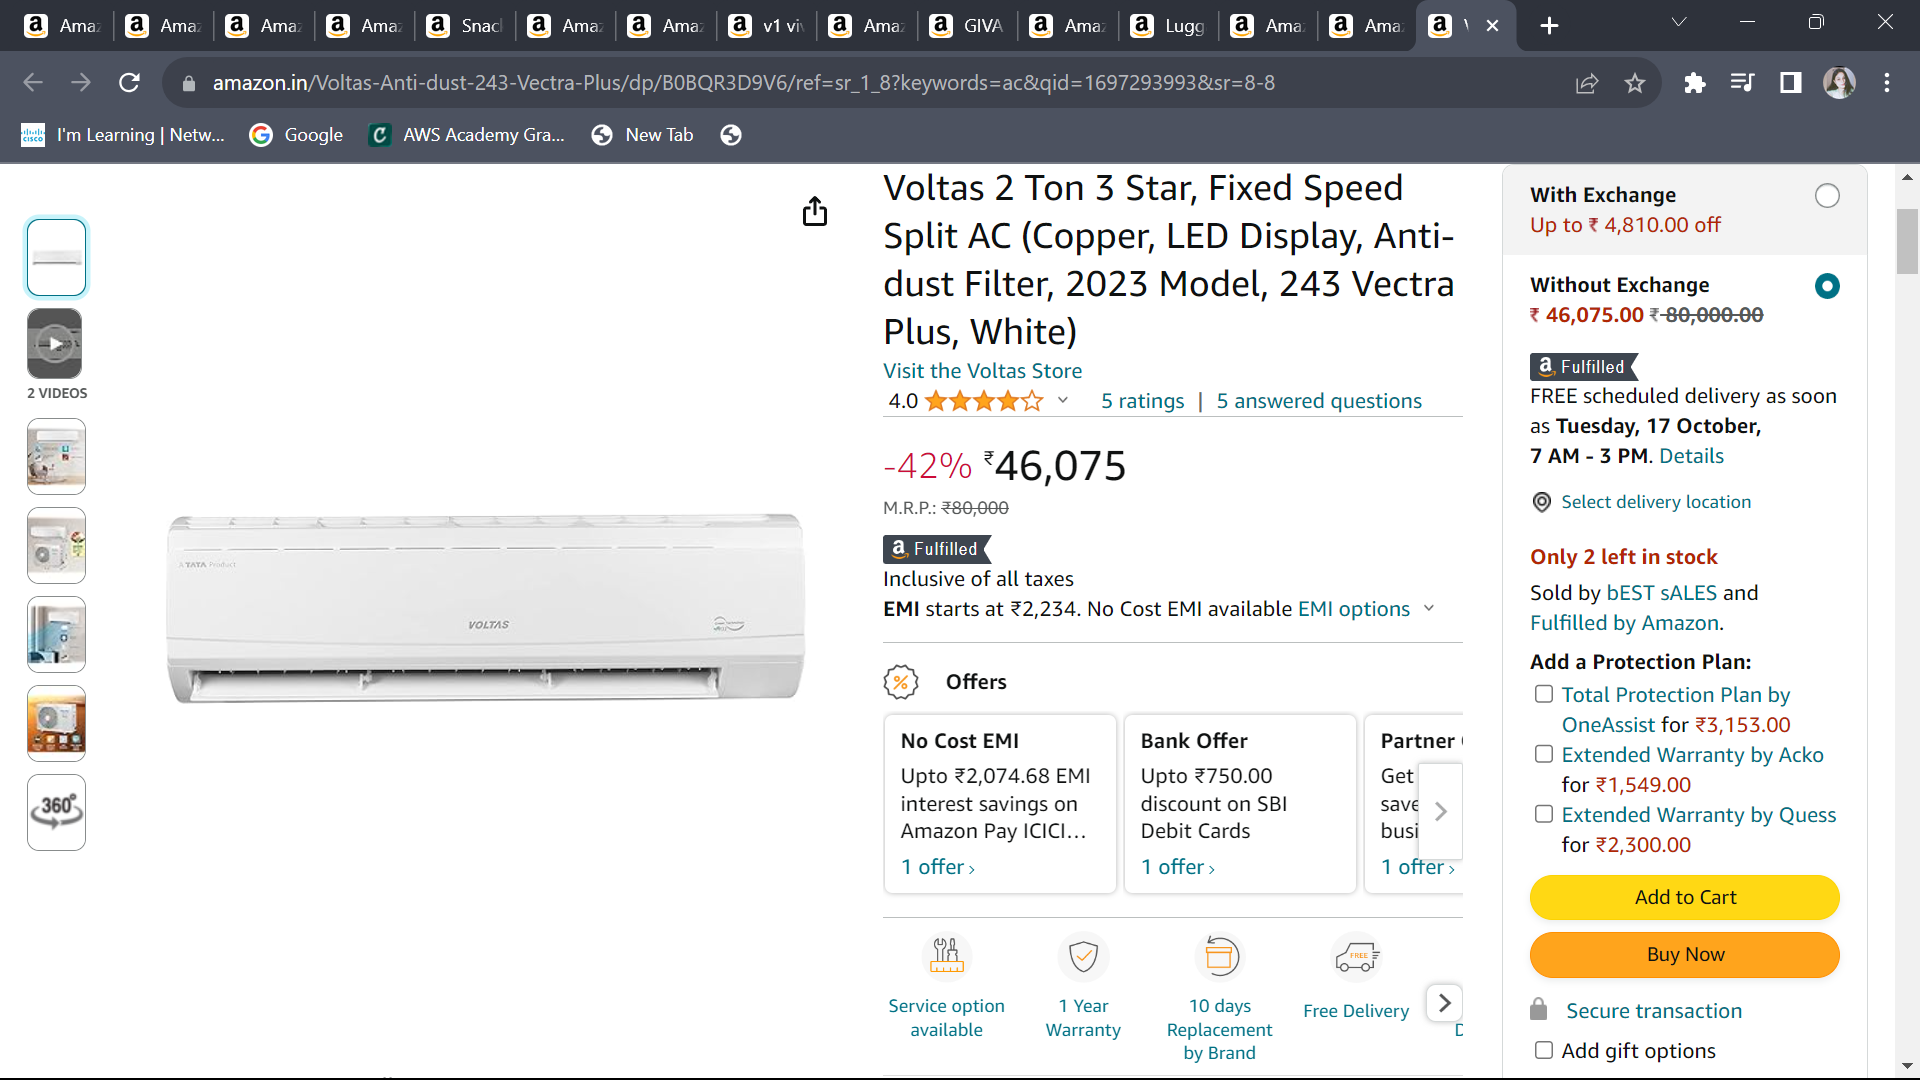Image: (128, 421, 827, 887)
Paragraph: (836, 657, 1476, 923), (872, 167, 1478, 364), (1514, 640, 1849, 855), (1523, 173, 1821, 338), (855, 567, 1464, 645), (862, 359, 1436, 436), (1516, 373, 1851, 487), (1516, 881, 1861, 980), (1511, 550, 1804, 633), (874, 444, 1204, 510), (1523, 1021, 1785, 1080), (1516, 493, 1797, 543)
